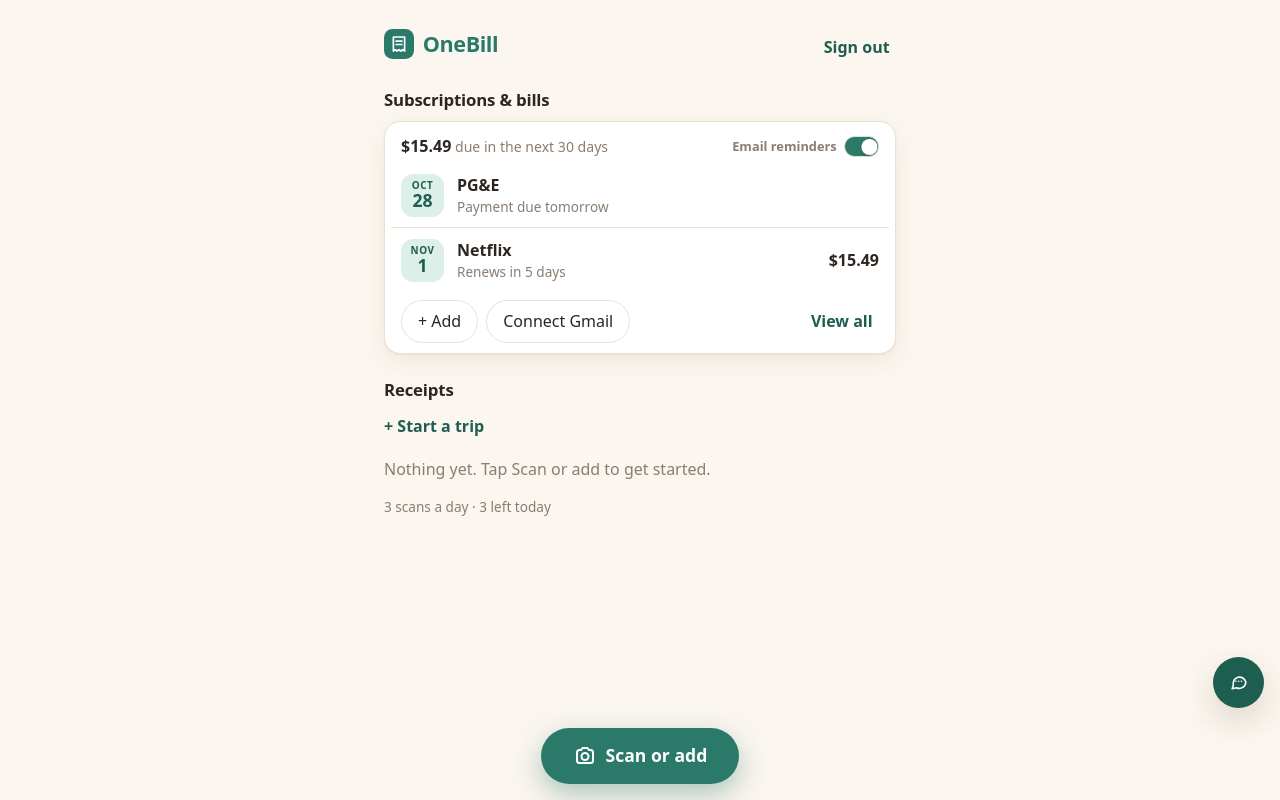
Test: Home — signed in › the full page lists bill due dates (not subscription reminders) and can remove one
Step 1. Click the button "View all" → point(842, 322), box [804, 306, 879, 337]
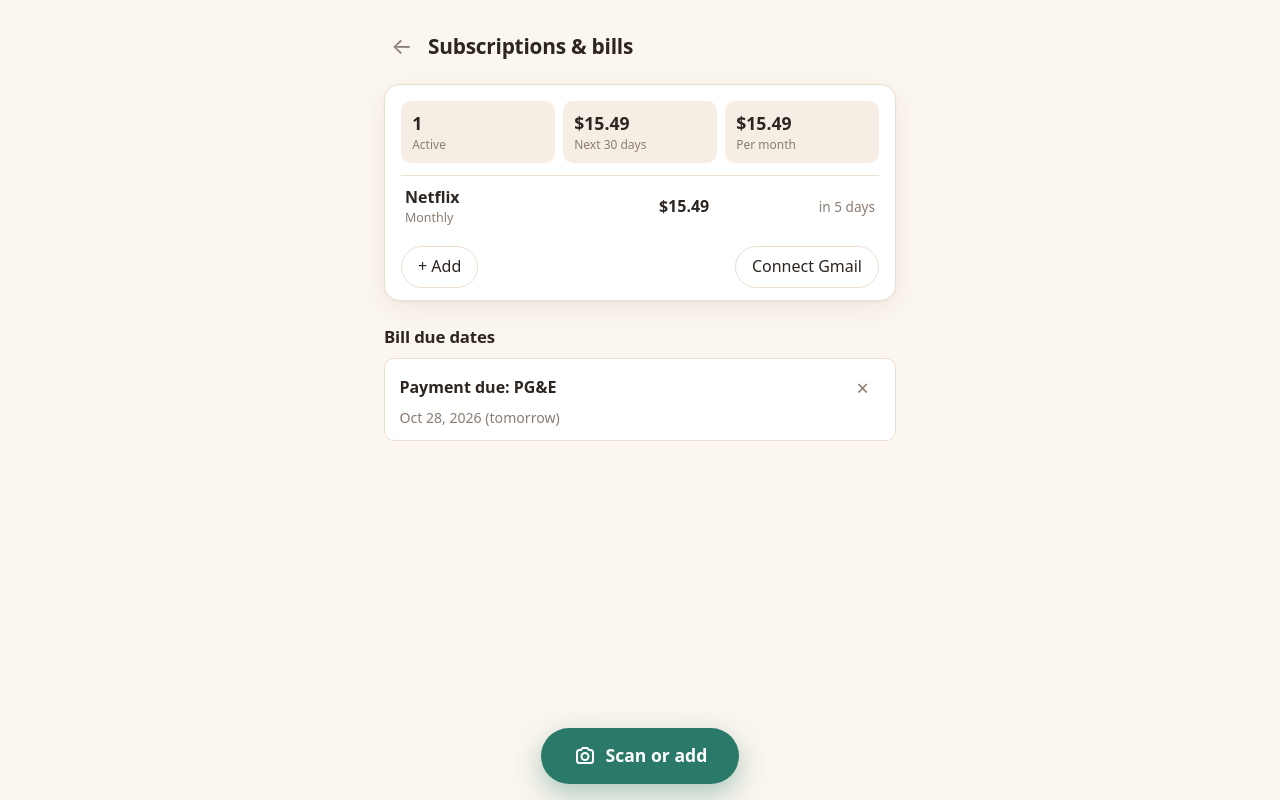
Check: the element "Bill due dates Payment due: PG&E Oct 28, 2026 (tomorrow) ×" does not show "Netflix", box [384, 325, 896, 441]
Check: the element "Bill due dates Payment due: PG&E Oct 28, 2026 (tomorrow) ×" is shown, box [384, 325, 896, 441]
